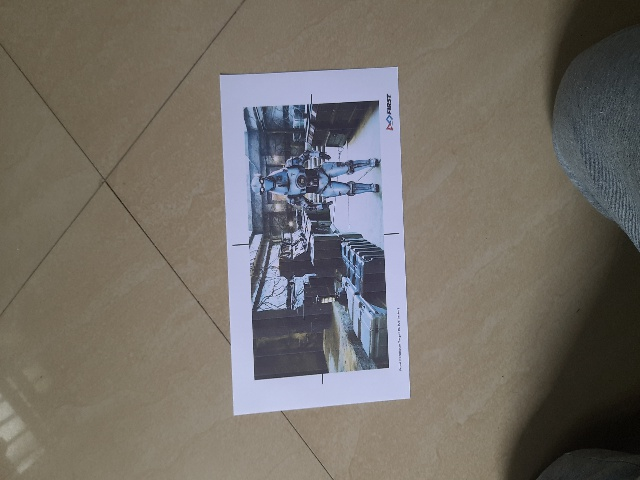fpt1: (226, 79, 406, 407)
